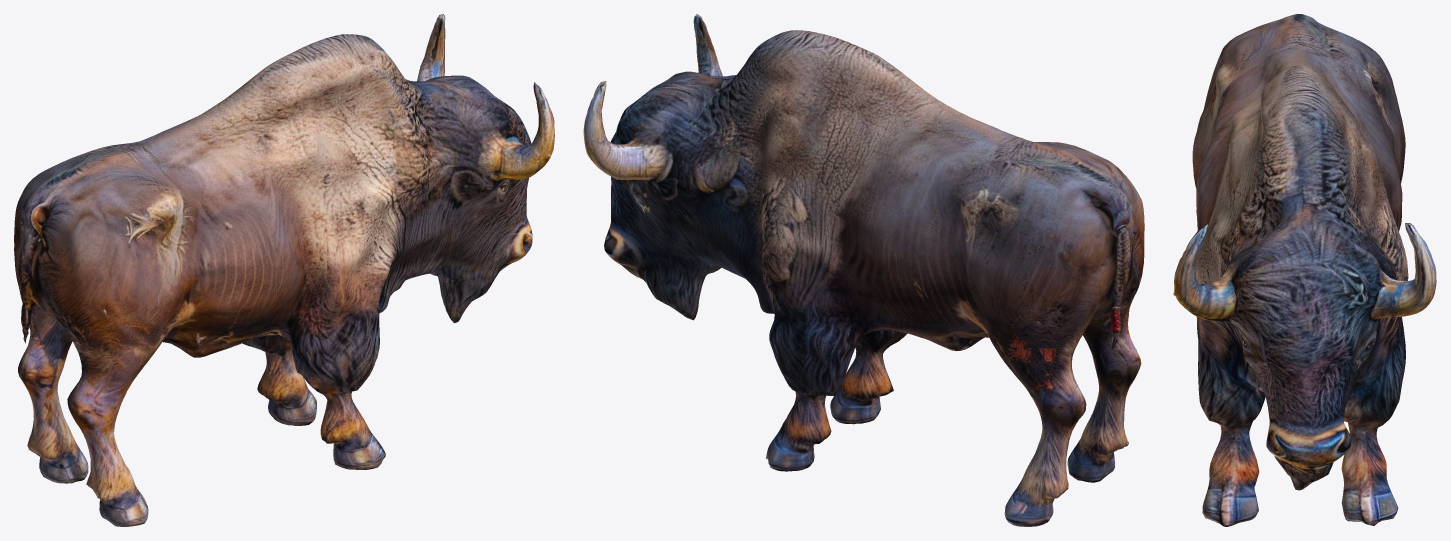
The model's file is bison.glb.
3 renders of one model, left to right at view 1: azimuth 30°, elevation 25°; view 2: azimuth 150°, elevation 25°; view 3: azimuth 270°, elevation 25°, orthographic. The views are drawn at different scales.
Visible parts, largest first — view 1: Mesh_0; view 2: Mesh_0; view 3: Mesh_0.
Part boxes in pixels (x1,y1,x2,y2): Mesh_0: (14,14,554,526); Mesh_0: (583,14,1144,526); Mesh_0: (1173,14,1436,526).
Size of the model in its own units: 1.2 by 0.9038 by 0.4948.
1 material, 1 textured.
